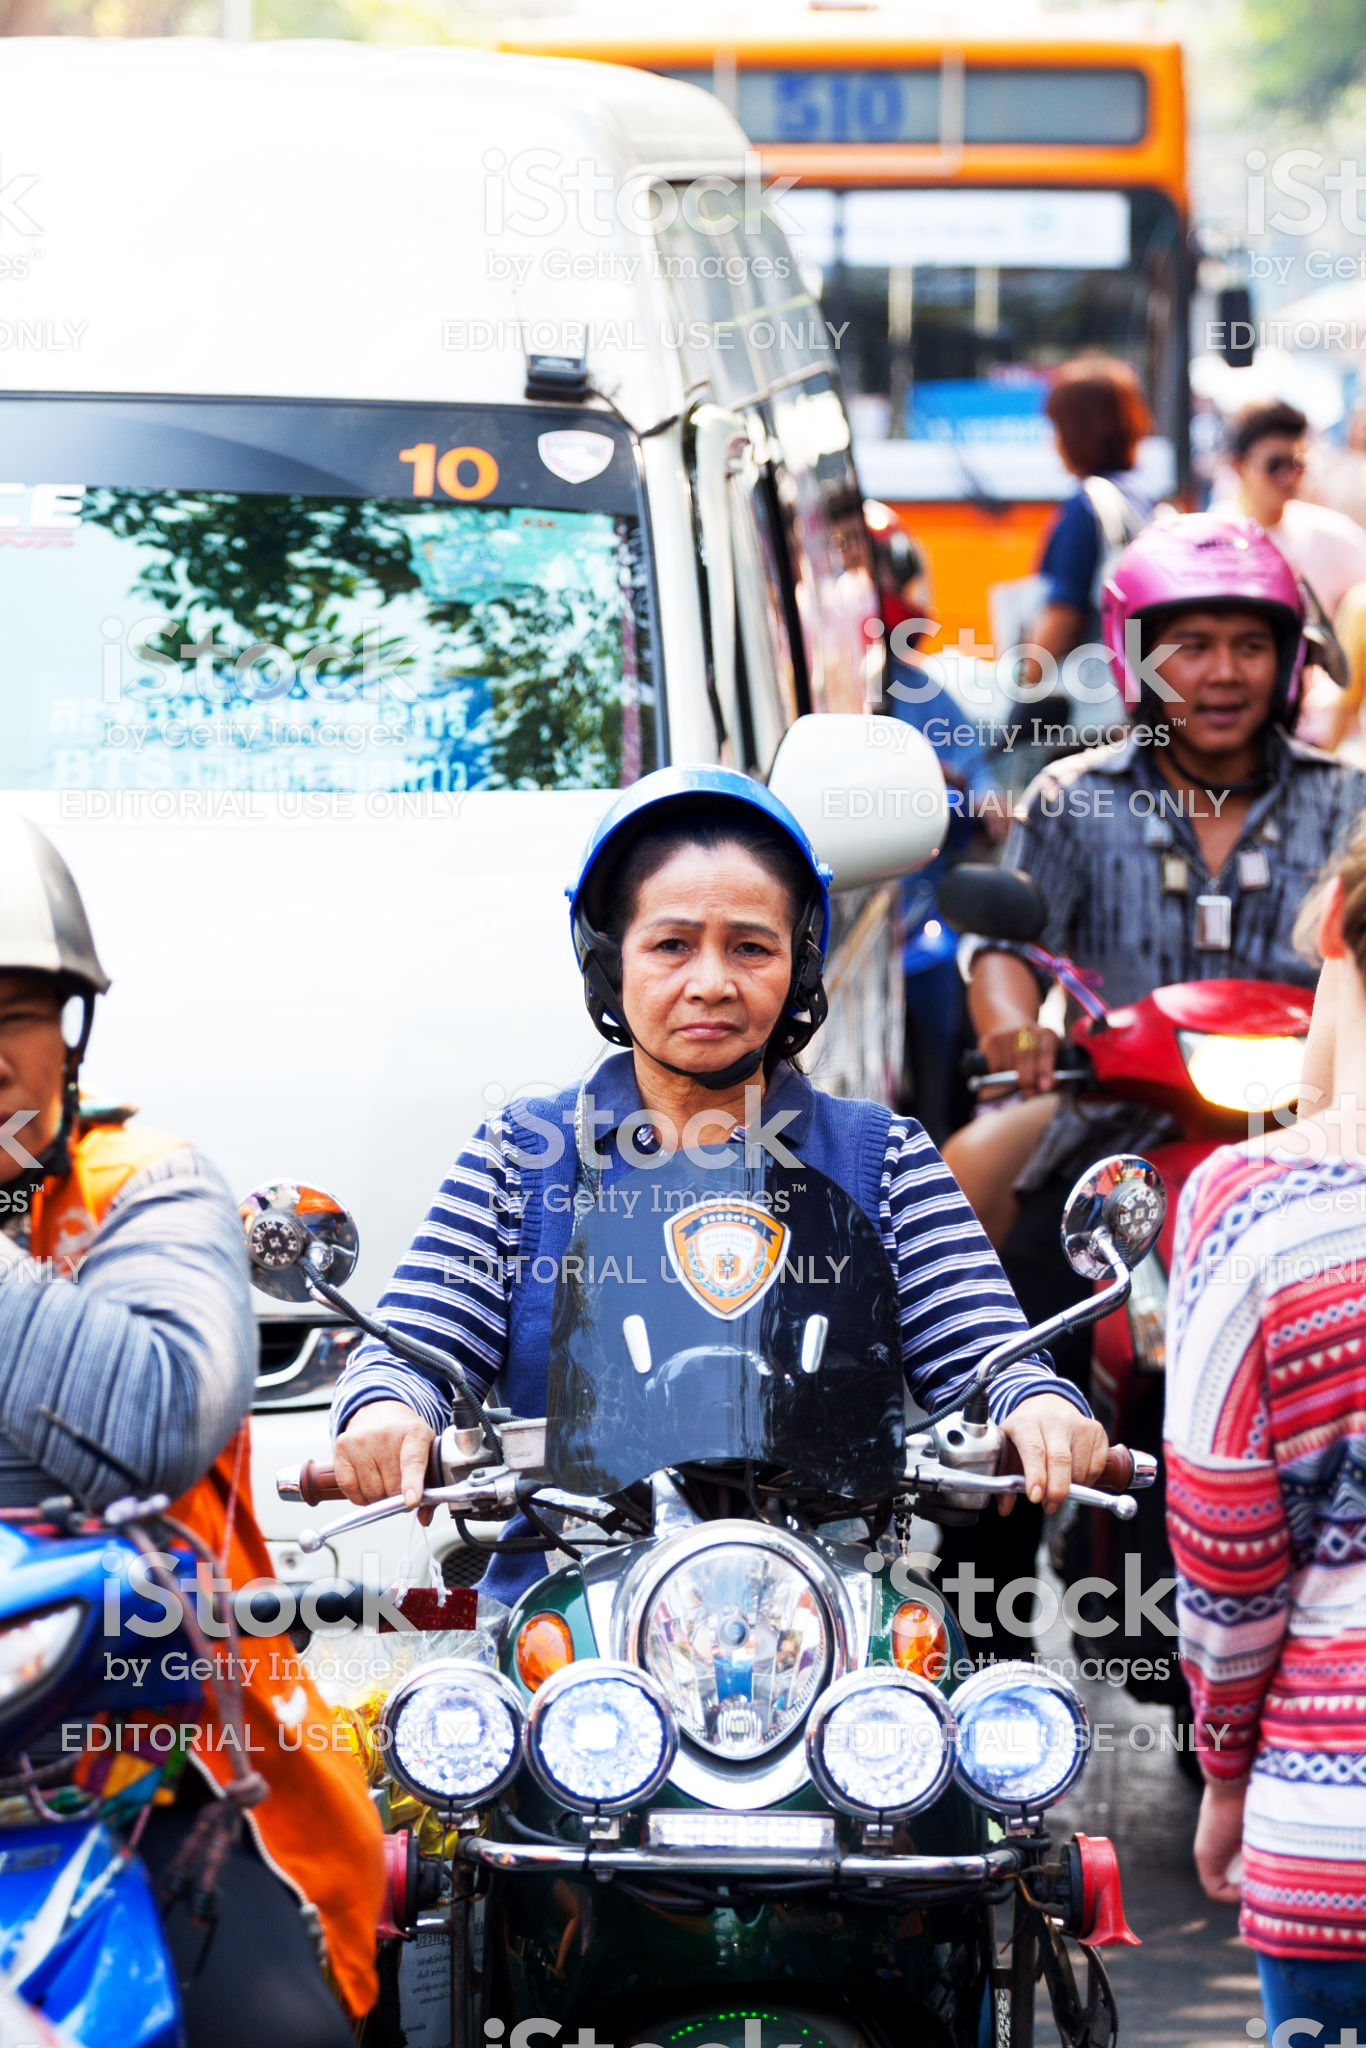helmet: (1063, 535, 1339, 706), (567, 741, 854, 901)
